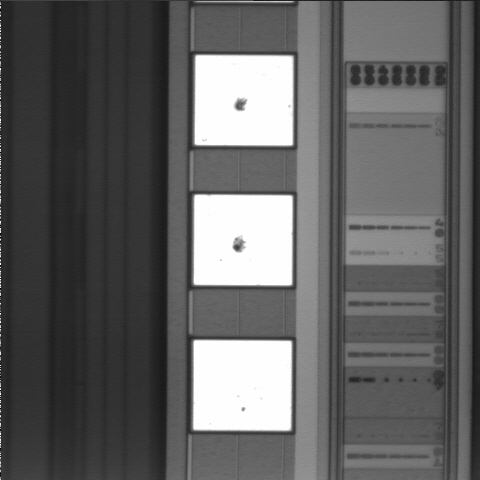pad: (193, 340, 292, 431), (195, 55, 293, 146), (194, 195, 293, 285)
